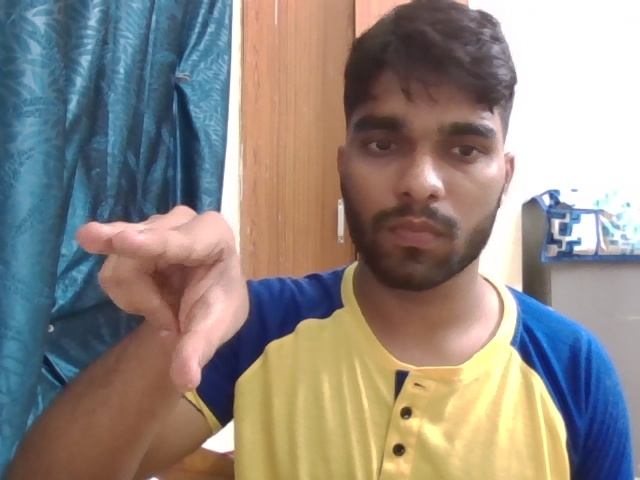No: (70, 181, 284, 403)
